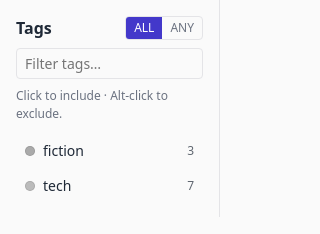
Test case: TagSidebar › filters tags by the search input
expect the text "fiction" is shown: met, box x1=43 y1=141 x2=84 y2=160
In the search field labelled "Filter tags…": coordinates (110, 64) x1=16 y1=48 x2=203 y2=79, type "tech"
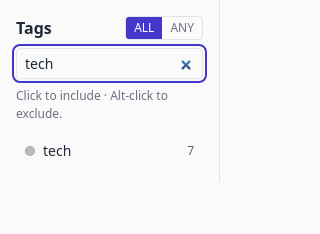
expect the text "tech" is shown: met, box x1=43 y1=141 x2=71 y2=160
expect the button "fiction" is gone: met
